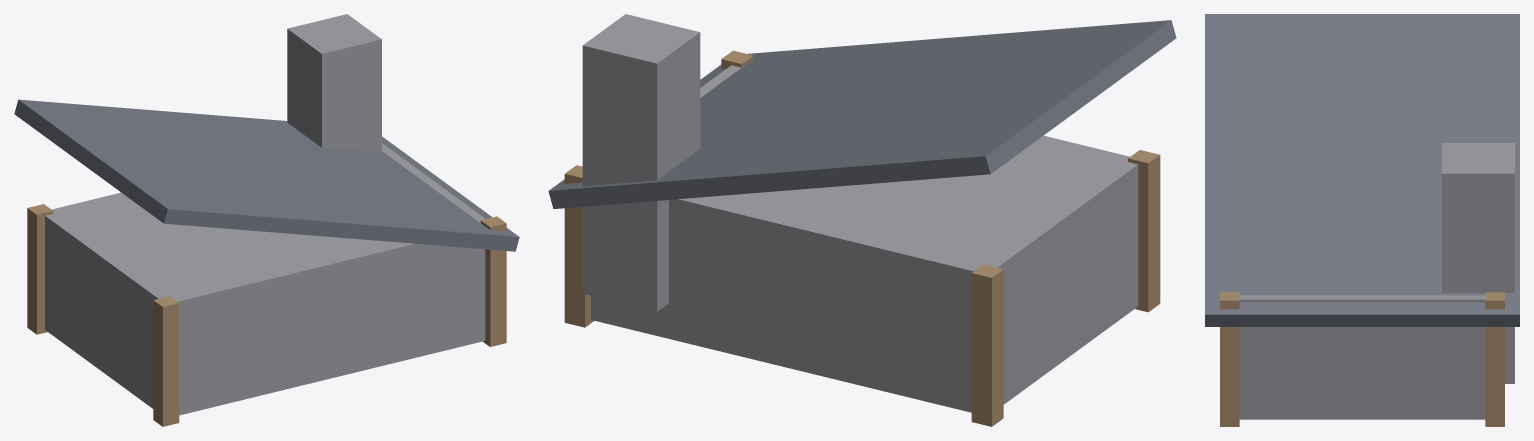
Rendered from Forja_Real_Guildhouse.fbx.
The picture shows the model from 3 angles, left to right: view 1: azimuth 30°, elevation 25°; view 2: azimuth 150°, elevation 25°; view 3: azimuth 270°, elevation 25°; orthographic projection. The views are drawn at different scales.
Visible parts, largest first — view 1: Forja_Paredes_Piedra, Forja_Techo_Pizarra, Forja_Chimenea, Viga_Esquina_-6.0_-4.0, Viga_Esquina_6.0_-4.0, Viga_Esquina_-6.0_4.0; view 2: Forja_Paredes_Piedra, Forja_Techo_Pizarra, Forja_Chimenea, Viga_Esquina_-6.0_4.0, Viga_Esquina_-6.0_-4.0, Viga_Esquina_6.0_4.0; view 3: Forja_Techo_Pizarra, Forja_Paredes_Piedra, Forja_Chimenea, Viga_Esquina_6.0_-4.0, Viga_Esquina_6.0_4.0.
Part boxes in pixels (x1=…): Forja_Paredes_Piedra: x1=45, y1=143, x2=485, y2=415; Forja_Techo_Pizarra: x1=14, y1=99, x2=519, y2=251; Forja_Chimenea: x1=287, y1=14, x2=381, y2=152; Viga_Esquina_-6.0_-4.0: x1=153, y1=296, x2=179, y2=426; Viga_Esquina_6.0_-4.0: x1=480, y1=216, x2=506, y2=346; Viga_Esquina_-6.0_4.0: x1=27, y1=204, x2=53, y2=334; Forja_Paredes_Piedra: x1=591, y1=63, x2=1138, y2=412; Forja_Techo_Pizarra: x1=548, y1=20, x2=1176, y2=208; Forja_Chimenea: x1=582, y1=14, x2=700, y2=311; Viga_Esquina_-6.0_4.0: x1=971, y1=264, x2=1003, y2=426; Viga_Esquina_-6.0_-4.0: x1=1128, y1=150, x2=1160, y2=312; Viga_Esquina_6.0_4.0: x1=564, y1=165, x2=594, y2=327; Forja_Techo_Pizarra: x1=1205, y1=14, x2=1519, y2=326; Forja_Paredes_Piedra: x1=1239, y1=295, x2=1485, y2=419; Forja_Chimenea: x1=1442, y1=143, x2=1514, y2=383; Viga_Esquina_6.0_-4.0: x1=1220, y1=292, x2=1239, y2=426; Viga_Esquina_6.0_4.0: x1=1485, y1=292, x2=1504, y2=426.
Size of the model in its own units: 1304 by 810 by 950.
